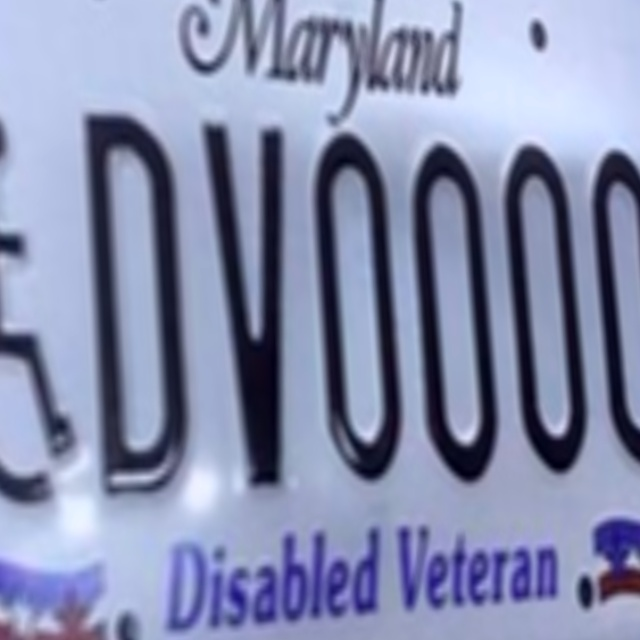ISA: (0, 104, 85, 509)
